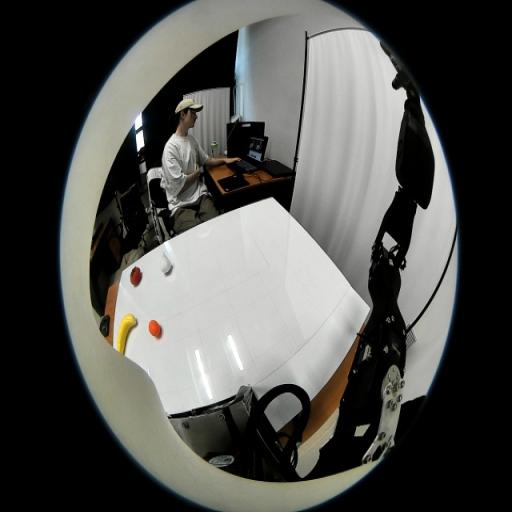Banana: (115, 314, 136, 356)
Onion: (160, 251, 172, 273)
Orange: (148, 319, 160, 337)
Tomato: (130, 266, 141, 286)
